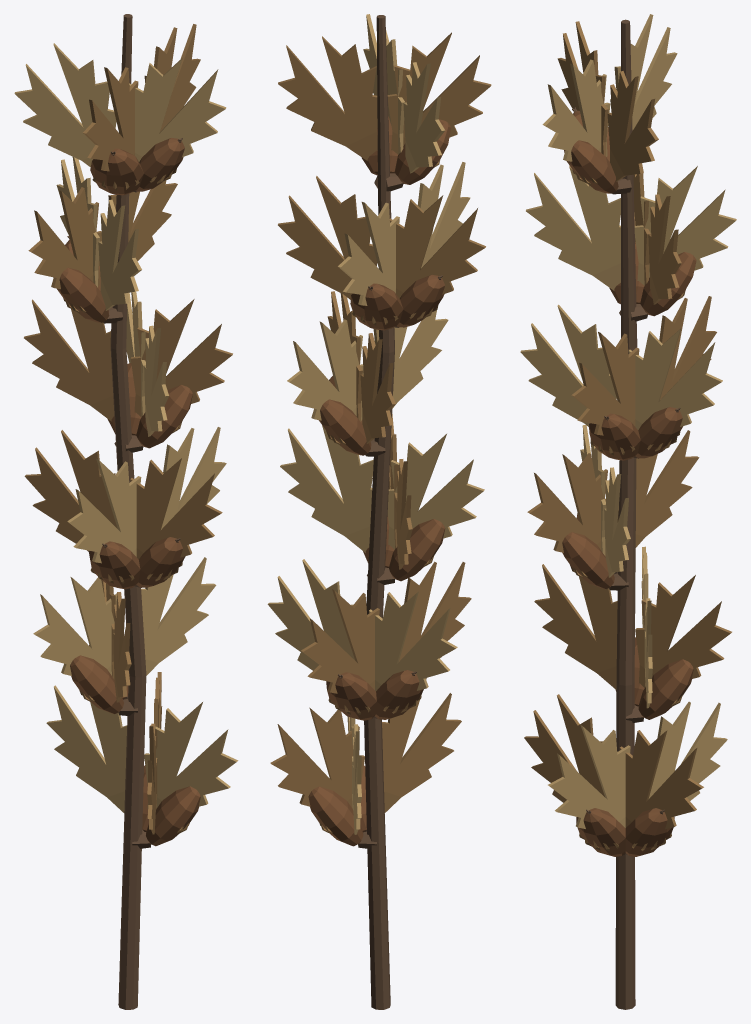
The model's file is palaeocarpinus.glb.
3 views of the same model, side by side, from view 1: azimuth 30°, elevation 25°; view 2: azimuth 150°, elevation 25°; view 3: azimuth 270°, elevation 25° (orthographic).
Visible parts, largest first — view 1: palaeocarpinus-six-paired-cymules; view 2: palaeocarpinus-six-paired-cymules; view 3: palaeocarpinus-six-paired-cymules.
Boxes of the visible parts, bbox=[...] form: palaeocarpinus-six-paired-cymules: bbox=[14, 14, 238, 1009]; palaeocarpinus-six-paired-cymules: bbox=[267, 14, 491, 1009]; palaeocarpinus-six-paired-cymules: bbox=[520, 14, 736, 1009].
Bounding box in the file's own units: 0.0128 × 0.06 × 0.012.
